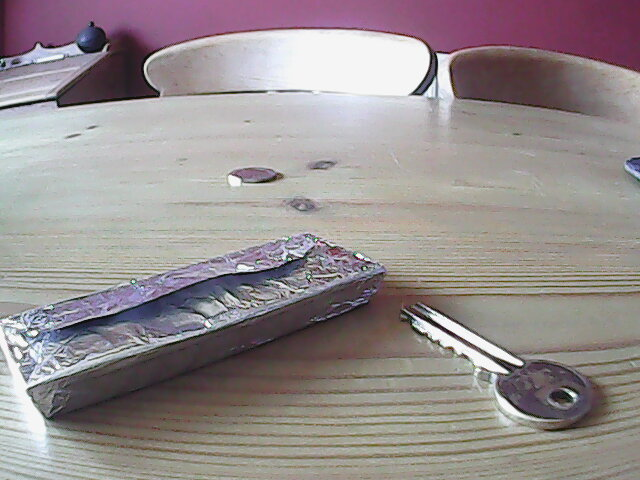Coin: (227, 164, 281, 185)
Foil: (1, 232, 389, 425)
Key: (397, 301, 595, 439)
